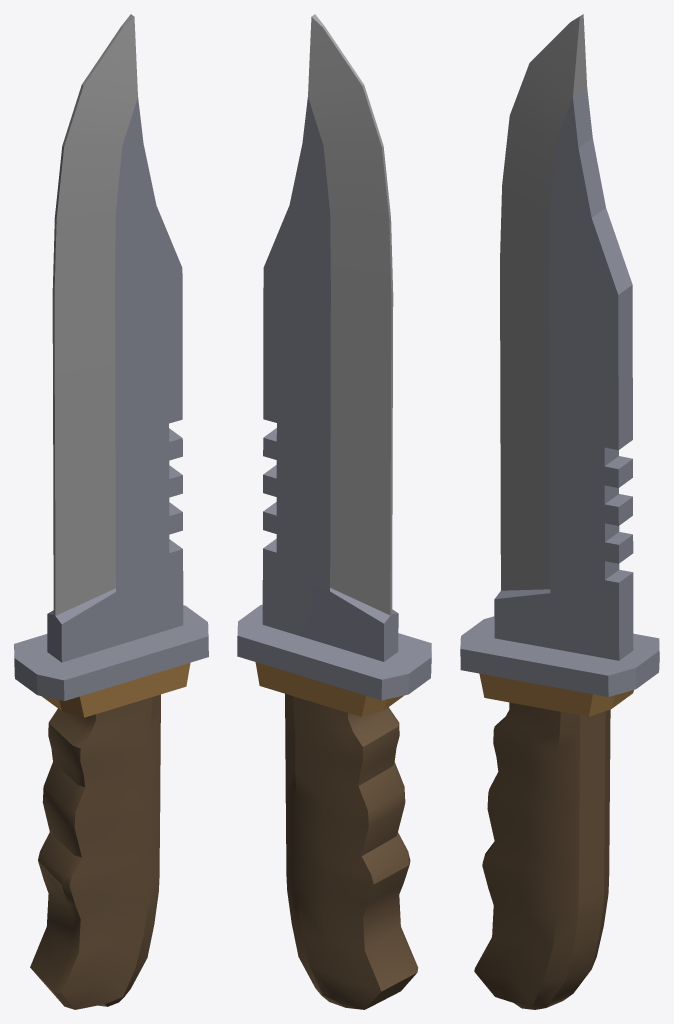
Rendered from item-knife-1.glb.
3 renders of one model, left to right at view 1: azimuth 30°, elevation 25°; view 2: azimuth 150°, elevation 25°; view 3: azimuth 330°, elevation 25°, orthographic. The views are drawn at different scales.
Parts seen in each view (by area): view 1: Knife_1; view 2: Knife_1; view 3: Knife_1.
Part boxes in pixels (x1=…): Knife_1: x1=14, y1=14, x2=208, y2=1009; Knife_1: x1=237, y1=14, x2=431, y2=1009; Knife_1: x1=460, y1=14, x2=659, y2=1009.
Bounding box in the file's own units: 0.2596 × 1.41 × 0.131.
